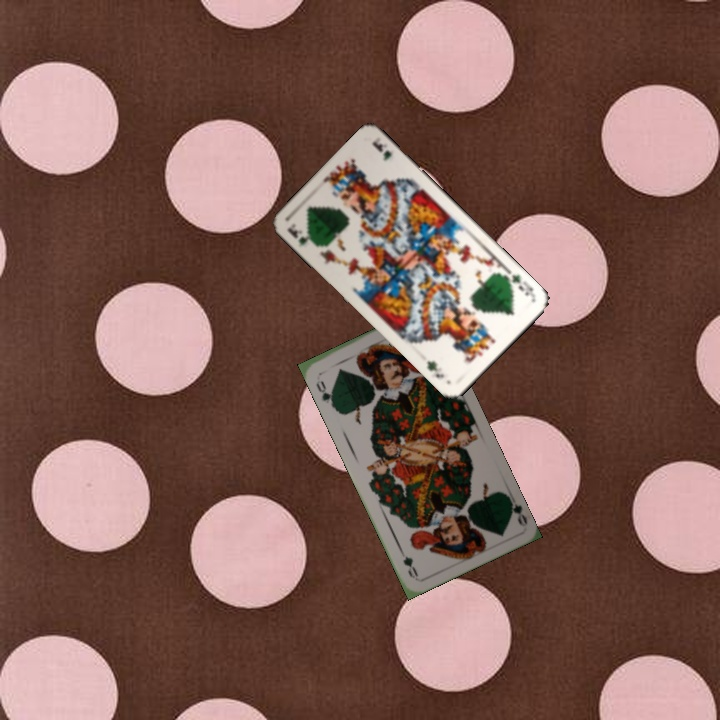GK: (500, 266, 536, 300), (283, 219, 320, 249)
GO: (502, 491, 530, 529), (312, 376, 336, 409)
